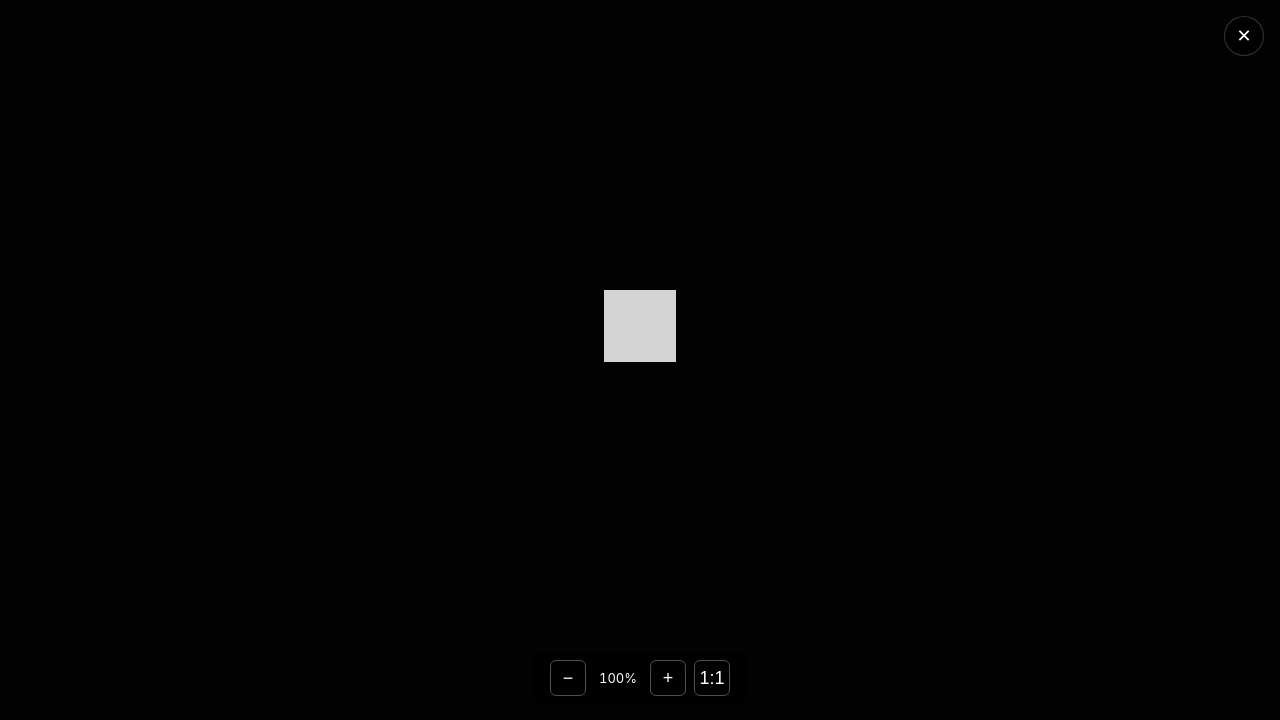
Test: ImageViewer › zooms out when - button clicked
Click the button named "축소": [568, 678] box x1=550 y1=660 x2=586 y2=696
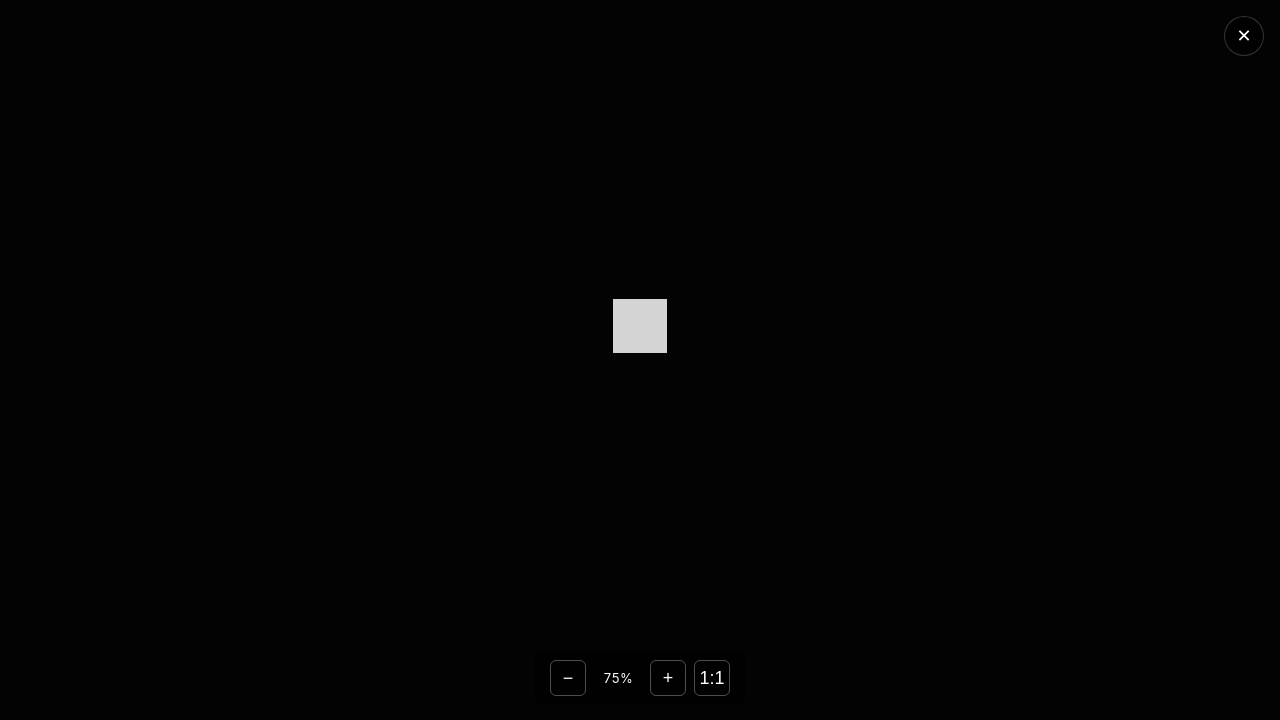
expect the text "75%" is shown: met, box x1=603 y1=670 x2=633 y2=686
